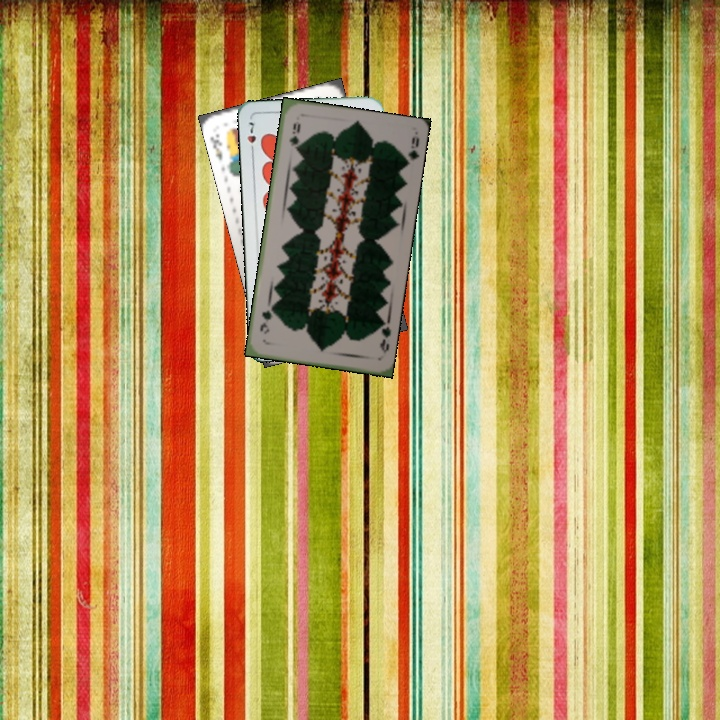EK: (207, 129, 225, 163)
G9: (374, 318, 393, 356), (285, 118, 303, 154)
H7: (243, 117, 259, 157)
